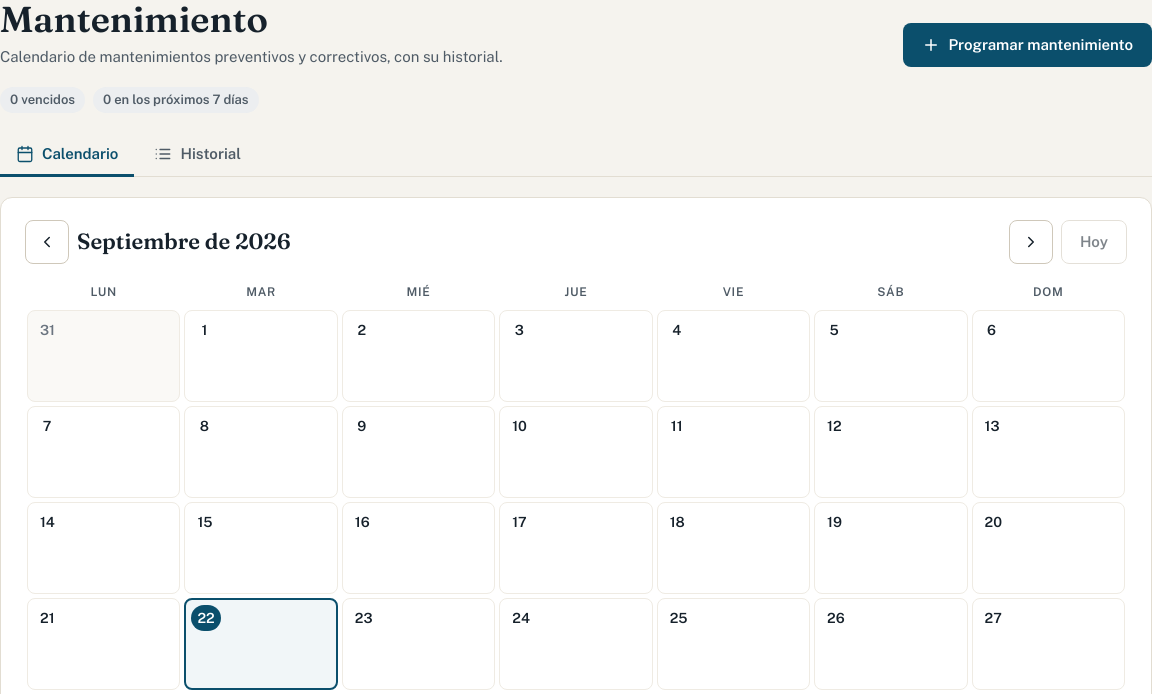
Scenario: MantenimientoVista · historial › la pestaña Historial lista los mantenimientos con su situación
Click the tab "Historial": click(198, 155) 138,133 -> 257,177
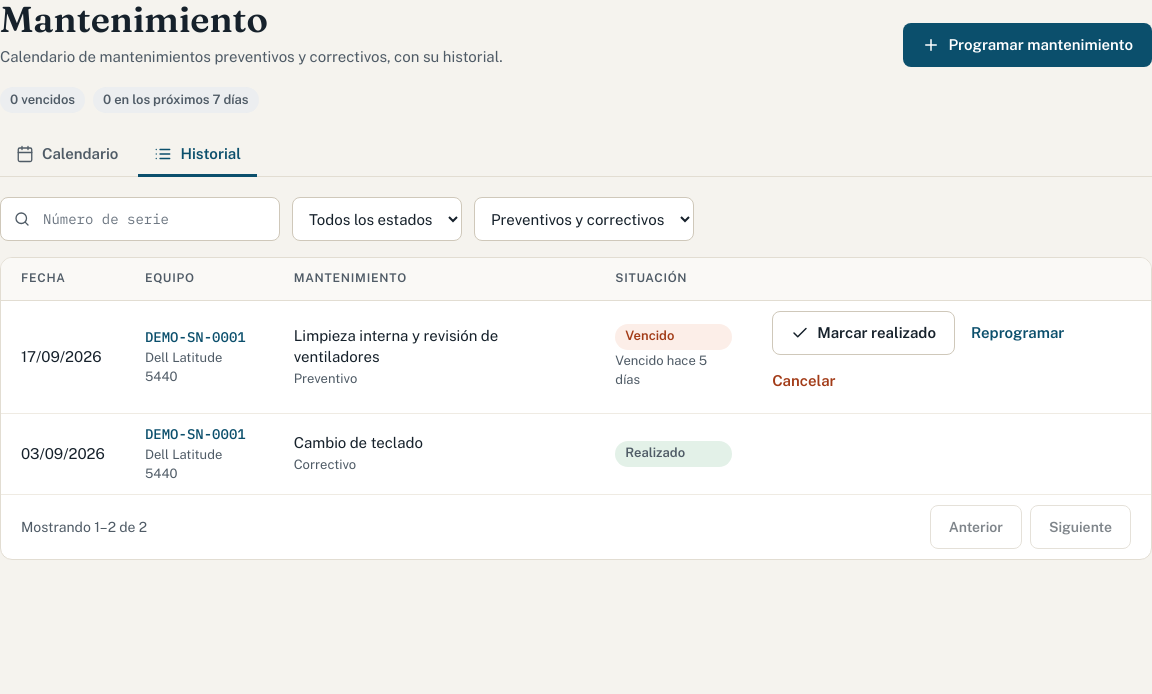
Now the 2nd row shows "Vencido", box 625,328 -> 674,344
Now the 2nd row shows "Vencido hace 5 días", box 615,353 -> 707,387
Now the 3rd row shows "Correctivo", box 294,457 -> 356,472
